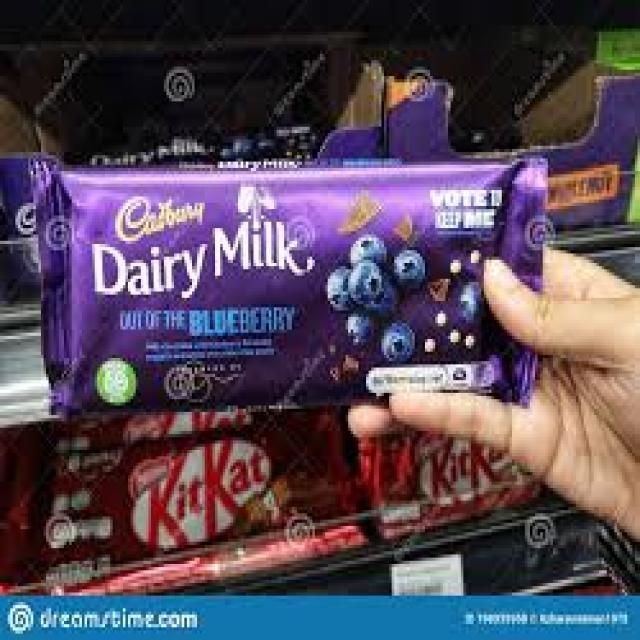cadbury_chocolate: (62, 158, 578, 388)
kitkat_chocolate: (65, 423, 363, 590), (390, 437, 550, 553)
